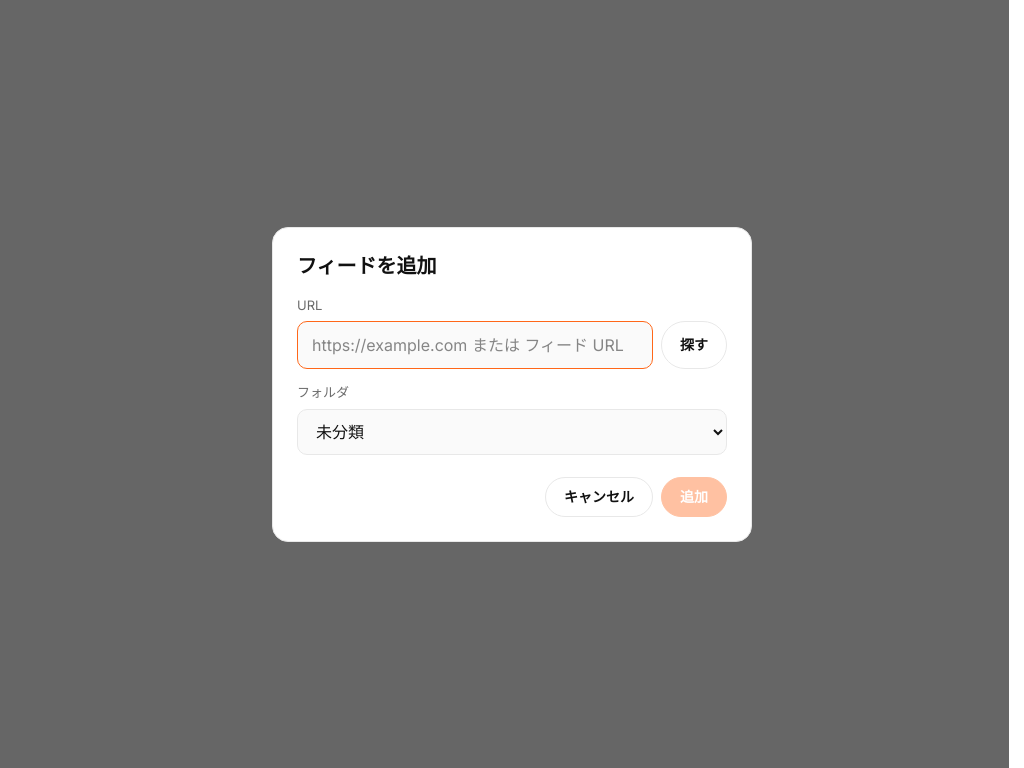
it: AddFeedModal › clears candidates and selection when the URL is edited
Step 1. Type "ex.com" into the field with placeholder "https://example.com または フィード URL" → (475, 345), box [297,321,653,369]
Then press Enter
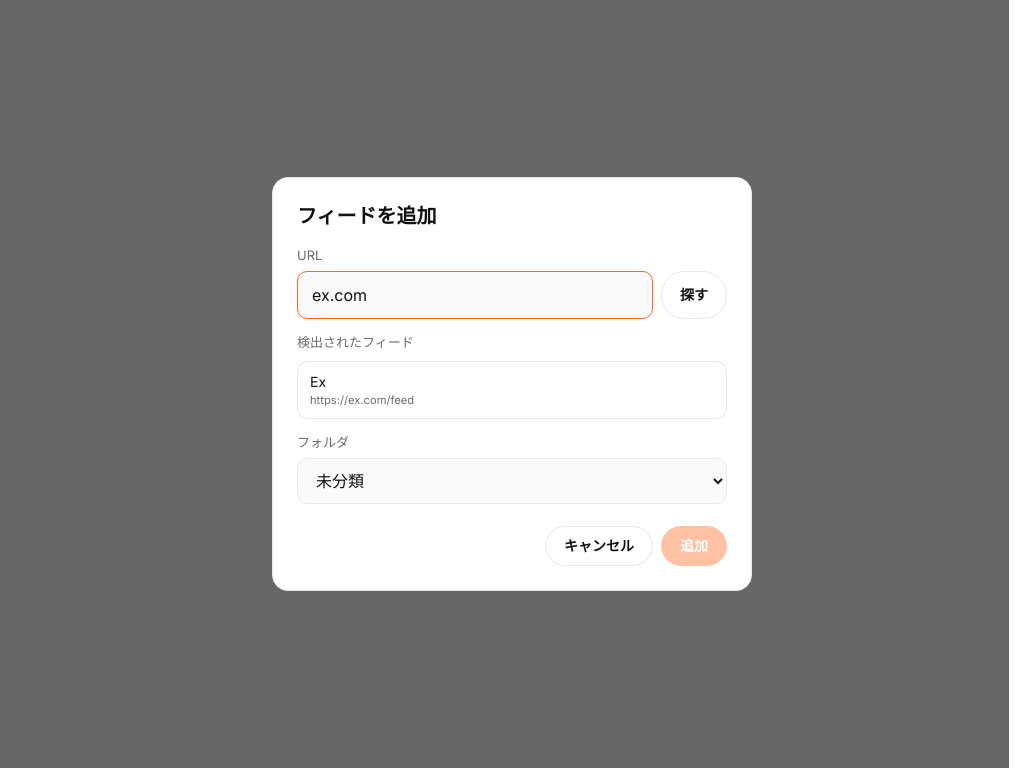
Step 2. Click the button "Ex https://ex.com/feed" → click(362, 400), box [297,361,727,419]
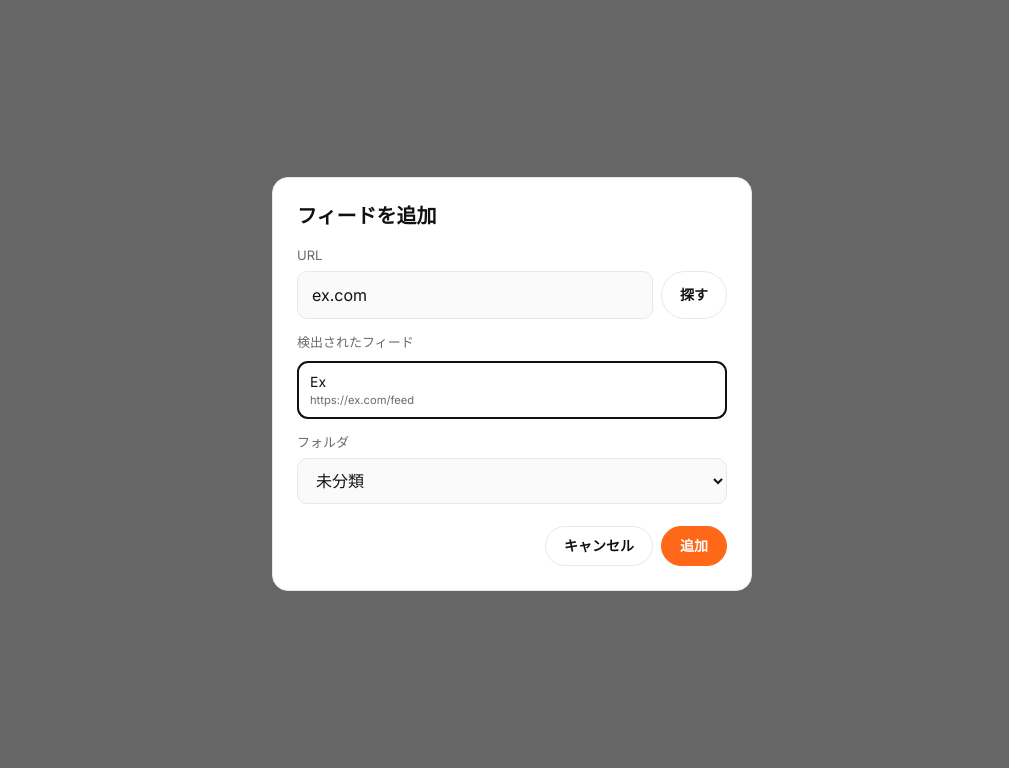
Result: the button "追加" is enabled at [661,526,727,566]
Step 3. Type "x" into the field with placeholder "https://example.com または フィード URL" → (475, 295), box [297,271,653,319]
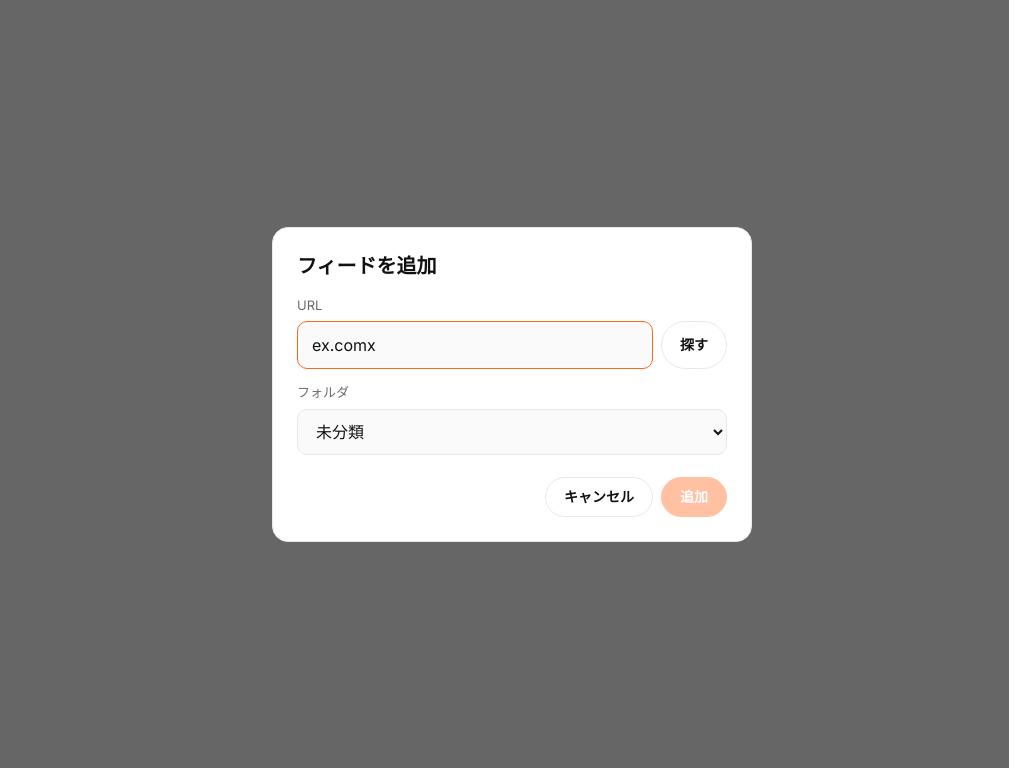
Result: the button "追加" is disabled at [661,476,727,516]
